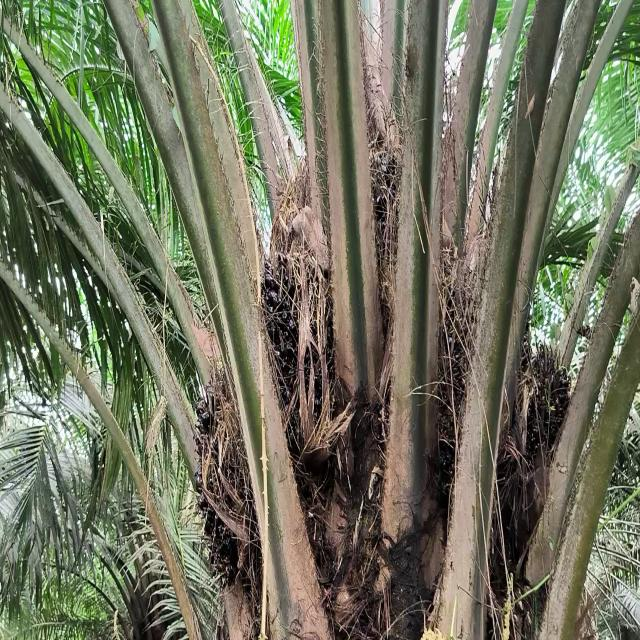palm-oil: (190, 360, 268, 596), (254, 248, 344, 440), (354, 132, 426, 329), (514, 323, 578, 524), (432, 278, 479, 487)
